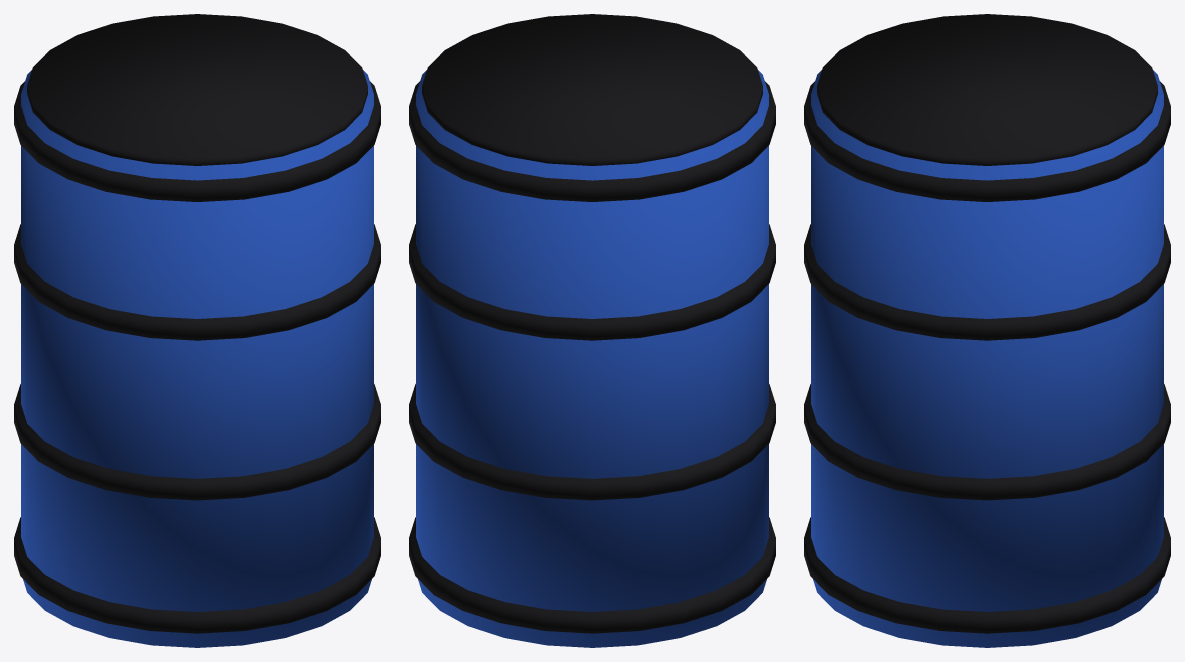
File: Dwoum.fbx
3 views of the same model, side by side, from view 1: azimuth 30°, elevation 25°; view 2: azimuth 150°, elevation 25°; view 3: azimuth 270°, elevation 25° (orthographic).
Parts seen in each view (by area): view 1: Dwoum; view 2: Dwoum; view 3: Dwoum.
Part boxes in pixels (left/top/right/bottom): Dwoum: left=14, top=14, right=380, bottom=647; Dwoum: left=409, top=14, right=775, bottom=647; Dwoum: left=804, top=14, right=1170, bottom=647.
Bounding box in the file's own units: 0.624 × 0.915 × 0.624.
